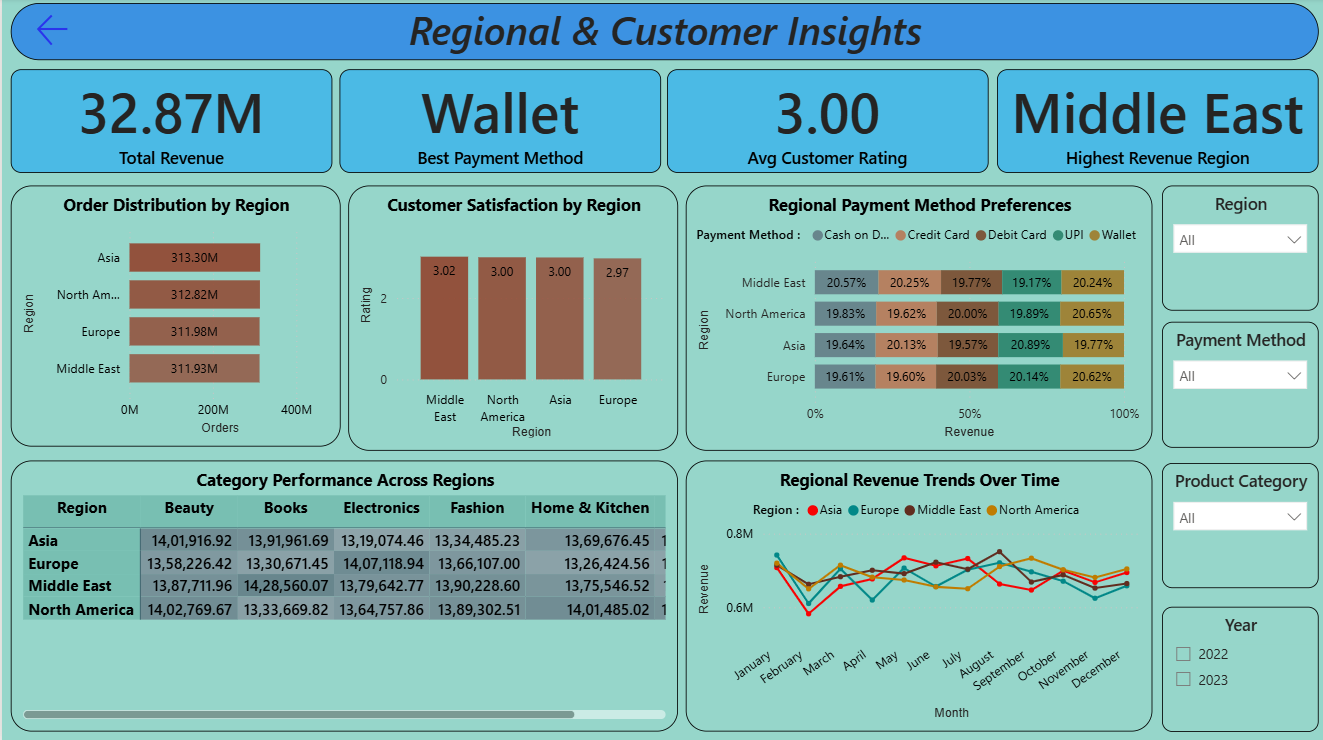

Layout of this report page (visuals, bound fields, positions):
{"tool":"powerbi","page":{"name":"Regional & Customer Insights","canvas":[1280,720],"ordinal":2},"visuals":[{"type":"textbox","title":"Regional & Customer Insights","box":[8.1,5,1262,55],"z":0},{"type":"card","fields":{"Values":["Sum(amazon_sales.total_revenue)"]},"box":[8.6,68.5,310.6,100.3],"z":1000},{"type":"card","fields":{"Values":["amazon_sales.Best Payment Method"]},"box":[326,68.5,310.6,100.3],"z":2000},{"type":"card","fields":{"Values":["amazon_sales.Avg Rating"]},"box":[642,68.5,310,100.3],"z":3000},{"type":"card","fields":{"Values":["amazon_sales.Highest Revenue Region"]},"box":[959.9,68.5,310.6,100.3],"z":4000},{"type":"clusteredColumnChart","title":"Customer Satisfaction by Region","fields":{"Category":["amazon_sales.customer_region"],"Y":["amazon_sales.Avg Rating"]},"box":[334,181,318.5,255.8],"z":5000},{"type":"hundredPercentStackedBarChart","title":"Regional Payment Method Preferences","fields":{"Category":["amazon_sales.customer_region"],"Series":["amazon_sales.payment_method"],"Y":["Sum(amazon_sales.total_revenue)"]},"box":[659.9,181,450,255.8],"z":6000},{"type":"barChart","title":"Order Distribution by Region","fields":{"Category":["amazon_sales.customer_region"],"Y":["Sum(amazon_sales.order_id)"]},"box":[8.4,181,318,252.1],"z":7000},{"type":"pivotTable","title":"Category Performance Across Regions","fields":{"Rows":["amazon_sales.customer_region"],"Columns":["amazon_sales.product_category"],"Values":["Sum(amazon_sales.total_revenue)"]},"box":[8.4,446.4,644.2,261.8],"z":8000},{"type":"slicer","title":"Region","fields":{"Values":["amazon_sales.customer_region"]},"box":[1119.6,181,150.8,120.6],"z":9000},{"type":"slicer","title":"Payment Method","fields":{"Values":["amazon_sales.payment_method"]},"box":[1119.6,312.5,150.8,121.9],"z":10000},{"type":"slicer","title":"Product Category","fields":{"Values":["amazon_sales.product_category"]},"box":[1119.6,448.8,150.8,120.6],"z":11000},{"type":"slicer","title":"Year","fields":{"Values":["amazon_sales.year"]},"box":[1119.6,587.5,150.8,120.6],"z":12000},{"type":"lineChart","title":"Regional Revenue Trends Over Time","fields":{"Category":["amazon_sales.month"],"Y":["Sum(amazon_sales.total_revenue)"],"Series":["amazon_sales.customer_region"]},"box":[659.9,446.4,450,261.8],"z":13000},{"type":"actionButton","box":[29.1,11.1,40.1,40.1],"z":14000}]}

Visuals, with their boxes in screenshot pixels (x1, y1, x2, y2), scaled from the page's 1280x720 canvas onto the 1323x740 screenshot:
"Regional & Customer Insights" textbox: rect(8, 5, 1313, 62)
card - Sum(amazon_sales.total_revenue): rect(9, 70, 330, 173)
card - amazon_sales.Best Payment Method: rect(337, 70, 658, 173)
card - amazon_sales.Avg Rating: rect(664, 70, 984, 173)
card - amazon_sales.Highest Revenue Region: rect(992, 70, 1313, 173)
"Customer Satisfaction by Region" clusteredColumnChart: rect(345, 186, 674, 449)
"Regional Payment Method Preferences" hundredPercentStackedBarChart: rect(682, 186, 1147, 449)
"Order Distribution by Region" barChart: rect(9, 186, 337, 445)
"Category Performance Across Regions" pivotTable: rect(9, 459, 675, 728)
"Region" slicer: rect(1157, 186, 1313, 310)
"Payment Method" slicer: rect(1157, 321, 1313, 446)
"Product Category" slicer: rect(1157, 461, 1313, 585)
"Year" slicer: rect(1157, 604, 1313, 728)
"Regional Revenue Trends Over Time" lineChart: rect(682, 459, 1147, 728)
actionButton: rect(30, 11, 72, 53)
